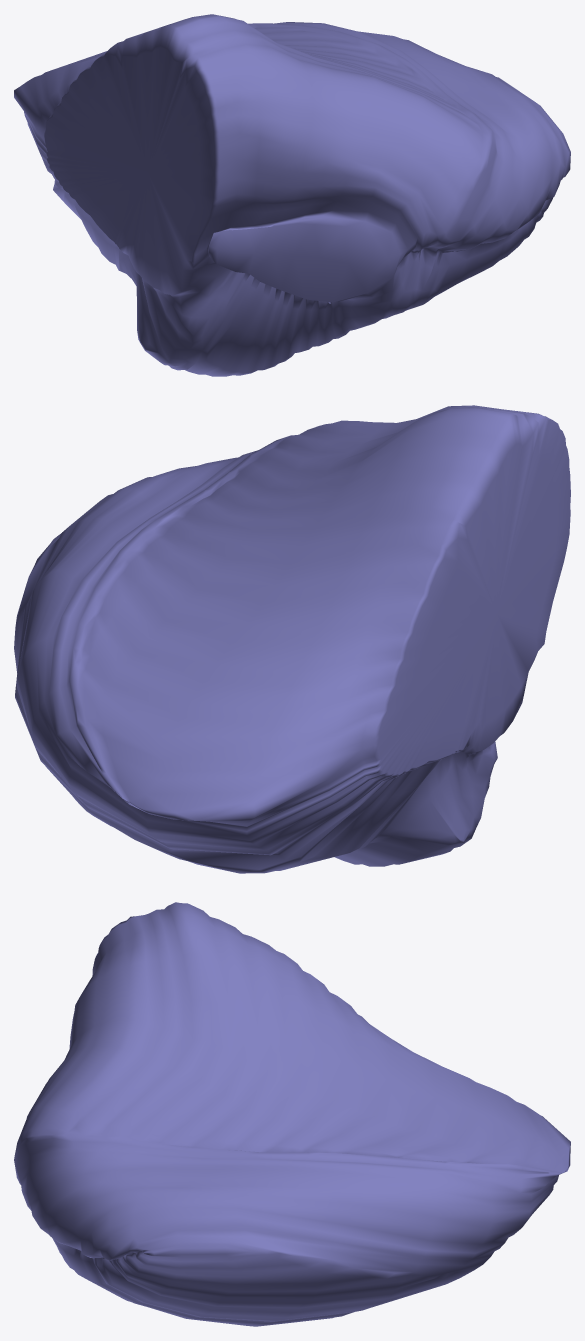
The model's file is Nervous_Full_Cerebellum_3_Trans.gltf.
3 views of the same model, one above another, from view 1: azimuth 30°, elevation 25°; view 2: azimuth 150°, elevation 25°; view 3: azimuth 270°, elevation 25° (orthographic). The views are drawn at different scales.
Visible parts, largest first — view 1: Nervous_Full_Cerebellum_3; view 2: Nervous_Full_Cerebellum_3; view 3: Nervous_Full_Cerebellum_3.
Part boxes in pixels (x1,y1,x2,y2): Nervous_Full_Cerebellum_3: (14,14,570,376); Nervous_Full_Cerebellum_3: (14,405,570,873); Nervous_Full_Cerebellum_3: (14,902,570,1326).
Size of the model in its own units: 4.45 by 4.26 by 5.89.
